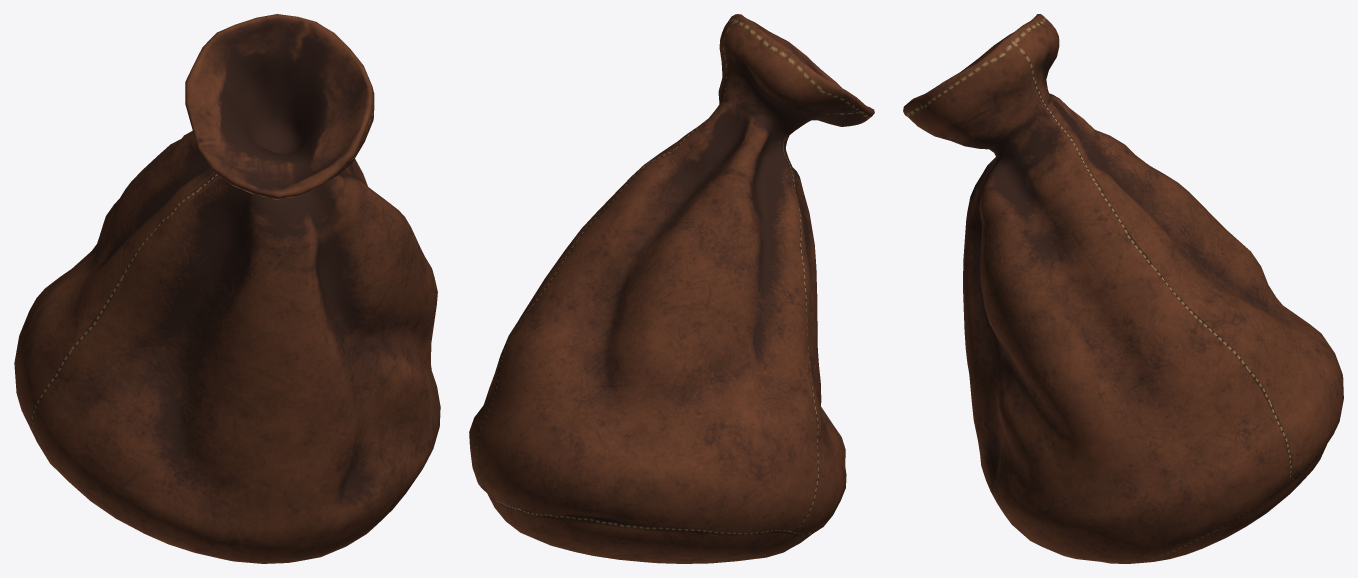
The model's file is dude bag.fbx.
3 renders of one model, left to right at view 1: azimuth 30°, elevation 25°; view 2: azimuth 150°, elevation 25°; view 3: azimuth 270°, elevation 25°, orthographic. The views are drawn at different scales.
Visible parts, largest first — view 1: bag_low; view 2: bag_low; view 3: bag_low.
Part boxes in pixels (x1,y1,x2,y2): bag_low: (14, 14, 440, 563); bag_low: (469, 14, 874, 563); bag_low: (903, 14, 1343, 563).
Size of the model in its own units: 55.34 by 79.7 by 64.67.
1 material, 1 textured.
